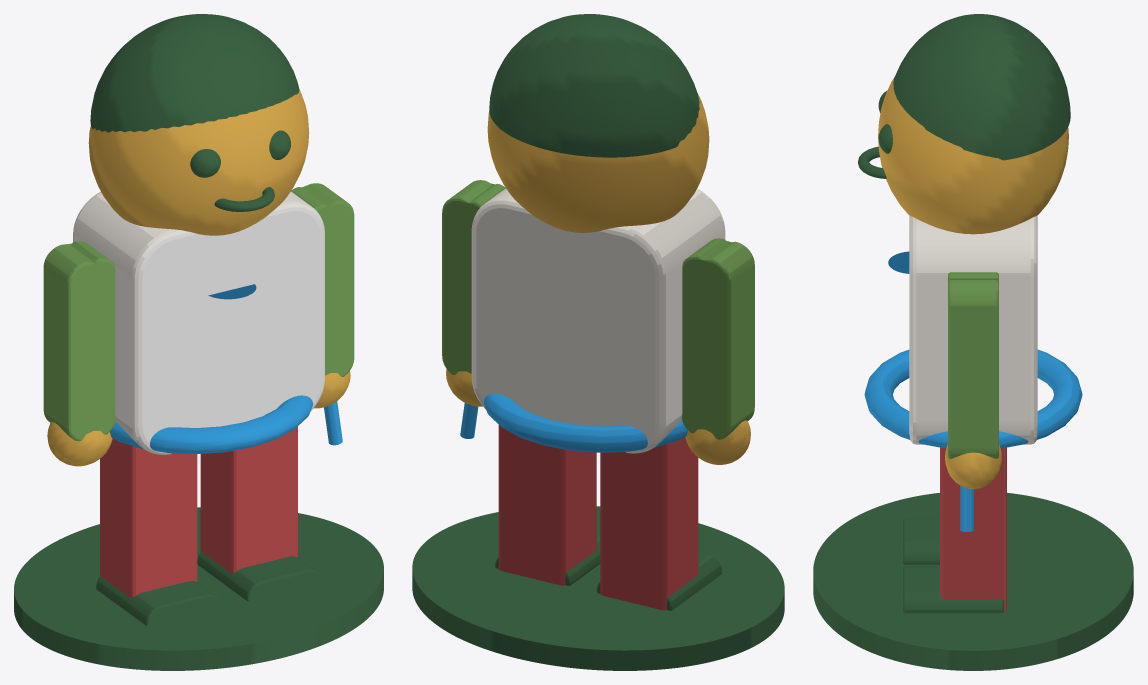
Rendered from 1108_左传_葵丘会盟台.glb.
3 renders of one model, left to right at view 1: azimuth 30°, elevation 25°; view 2: azimuth 150°, elevation 25°; view 3: azimuth 270°, elevation 25°, orthographic. The views are drawn at different scales.
Parts seen in each view (by area): view 1: card_1108; view 2: card_1108; view 3: card_1108.
Boxes of the visible parts, x1,y1,x2,y2 form: card_1108: [14, 14, 383, 670]; card_1108: [412, 14, 784, 670]; card_1108: [813, 14, 1133, 670].
Size of the model in its own units: 0.5893 by 1 by 0.4991.
